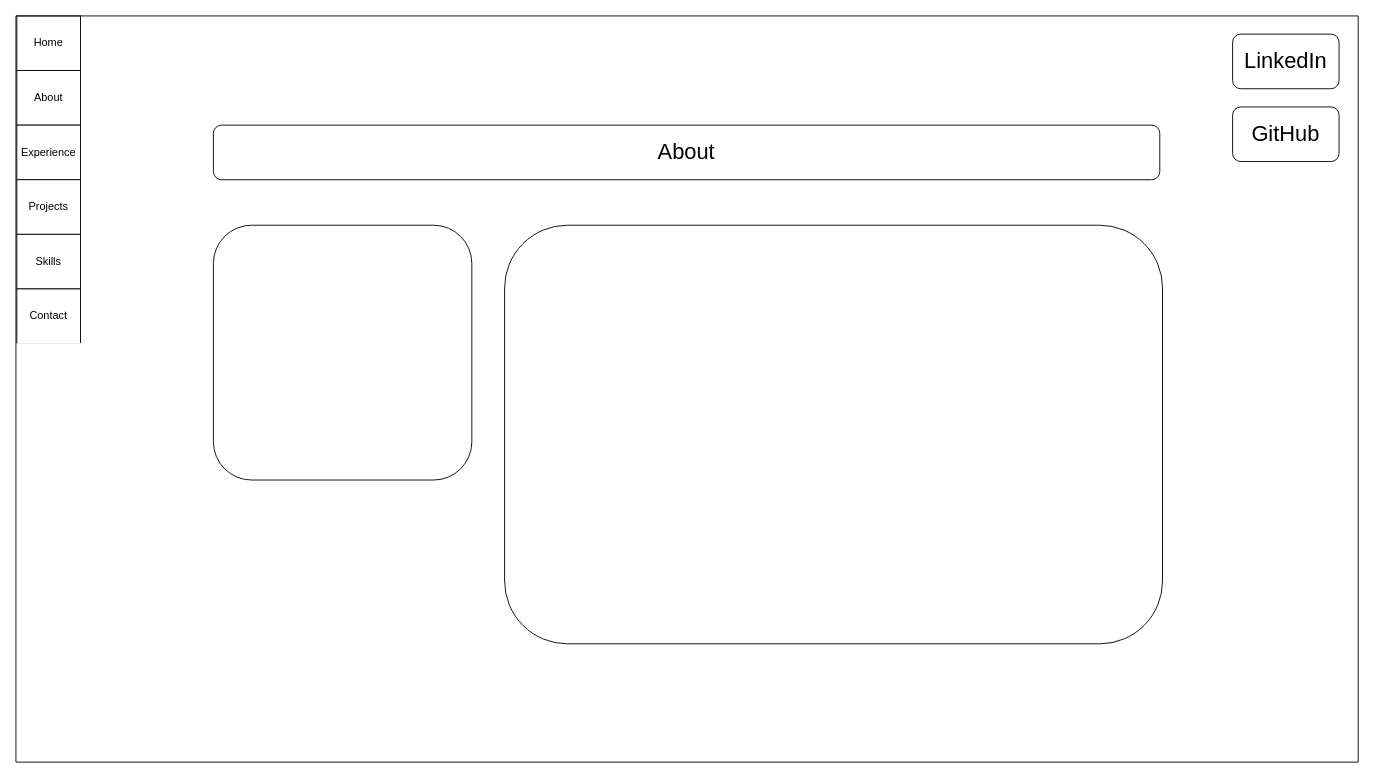
This 1374x778 diagram has some shape labels left out. Here are the shapes that lost their labels. From the top down, the centre of each, then its label:
[342,352]: Photo
[833,434]: Introduction
